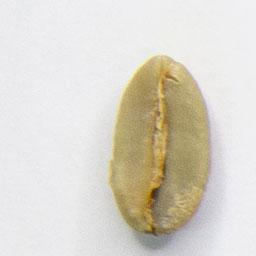longberry: (106, 51, 216, 238)
